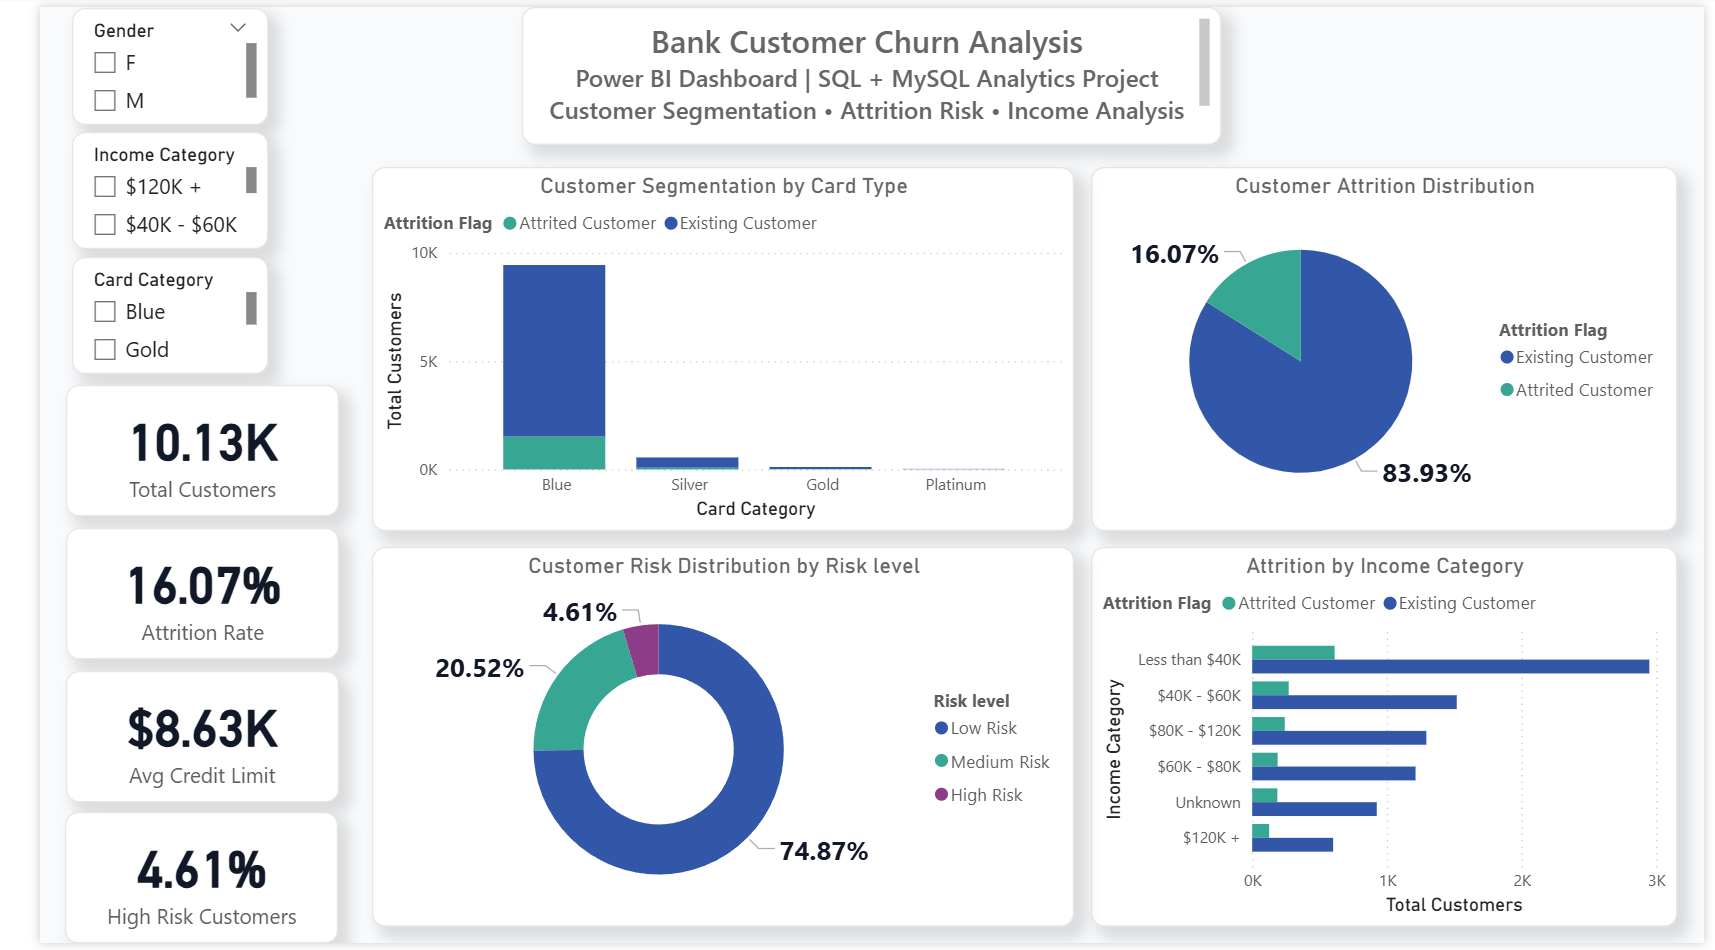

What the dashboard file says about the page in this screenshot:
{"tool":"powerbi","page":{"name":"Page 1","canvas":[1280,720],"ordinal":0},"visuals":[{"type":"card","fields":{"Values":["Count(bank_churn_project customers.CLIENTNUM)"]},"box":[19.6,290.5,210,101],"z":0,"group":"g1"},{"type":"pieChart","title":"Customer Attrition Distribution","fields":{"Category":["bank_churn_project customers.Attrition_Flag"],"Y":["CountNonNull(bank_churn_project customers.CLIENTNUM)"]},"box":[808.5,123.1,450.8,280],"z":1000},{"type":"clusteredBarChart","title":"Attrition by Income Category","fields":{"Category":["bank_churn_project customers.Income_Category"],"Series":["bank_churn_project customers.Attrition_Flag"],"Y":["CountNonNull(bank_churn_project customers.CLIENTNUM)"]},"box":[808.5,415.4,450.8,292.3],"z":2000},{"type":"columnChart","title":"Customer Segmentation by Card Type","fields":{"Category":["bank_churn_project customers.Card_Category"],"Y":["CountNonNull(bank_churn_project customers.CLIENTNUM)"],"Series":["bank_churn_project customers.Attrition_Flag"]},"box":[255.4,123.1,540,280],"z":3000},{"type":"donutChart","fields":{"Category":["bank_churn_project risk_summary.Risk_level"],"Y":["Sum(bank_churn_project risk_summary.Total_customers)"]},"box":[255.4,415.4,540,292.3],"z":4000},{"type":"textbox","box":[370.8,0,538.5,106.2],"z":5000},{"type":"slicer","fields":{"Values":["bank_churn_project customers.Gender"]},"box":[24.3,0.5,150.5,89.9],"z":6000},{"type":"slicer","fields":{"Values":["bank_churn_project customers.Income_Category"]},"box":[24.3,96.5,150.5,89.9],"z":7000},{"type":"slicer","fields":{"Values":["bank_churn_project customers.Card_Category"]},"box":[24.3,192.6,150.5,89.9],"z":8000},{"type":"card","fields":{"Values":["bank_churn_project customers.Attrition Rate %"]},"box":[19.9,400.2,210.4,101.2],"z":9000,"group":"g1"},{"type":"card","fields":{"Values":["bank_churn_project churn_summary.Avg Credit Limit"]},"box":[19.9,510.6,209.7,101.2],"z":10000,"group":"g1"},{"type":"card","fields":{"Values":["bank_churn_project customers.High Risk Customers %"]},"box":[19.2,618.8,210.4,101.2],"z":11000,"group":"g1"},{"type":"group","id":"g1","title":"Group 1","box":[19.2,290.5,211.1,429.6],"z":11001}]}

Visuals, with their boxes in screenshot pixels (x1, y1, x2, y2), scaled from the page's 1280x720 canvas onto the 1715x950 screenshot:
card - Count(bank_churn_project customers.CLIENTNUM): bbox=(26, 383, 308, 517)
"Customer Attrition Distribution" pieChart: bbox=(1083, 162, 1687, 532)
"Attrition by Income Category" clusteredBarChart: bbox=(1083, 548, 1687, 934)
"Customer Segmentation by Card Type" columnChart: bbox=(342, 162, 1066, 532)
donutChart - bank_churn_project risk_summary.Risk_level x Sum(bank_churn_project risk_summary.Total_customers): bbox=(342, 548, 1066, 934)
textbox: bbox=(497, 0, 1218, 140)
slicer - bank_churn_project customers.Gender: bbox=(33, 1, 234, 119)
slicer - bank_churn_project customers.Income_Category: bbox=(33, 127, 234, 246)
slicer - bank_churn_project customers.Card_Category: bbox=(33, 254, 234, 373)
card - bank_churn_project customers.Attrition Rate %: bbox=(27, 528, 309, 662)
card - bank_churn_project churn_summary.Avg Credit Limit: bbox=(27, 674, 308, 807)
card - bank_churn_project customers.High Risk Customers %: bbox=(26, 816, 308, 949)
"Group 1" group: bbox=(26, 383, 309, 949)
